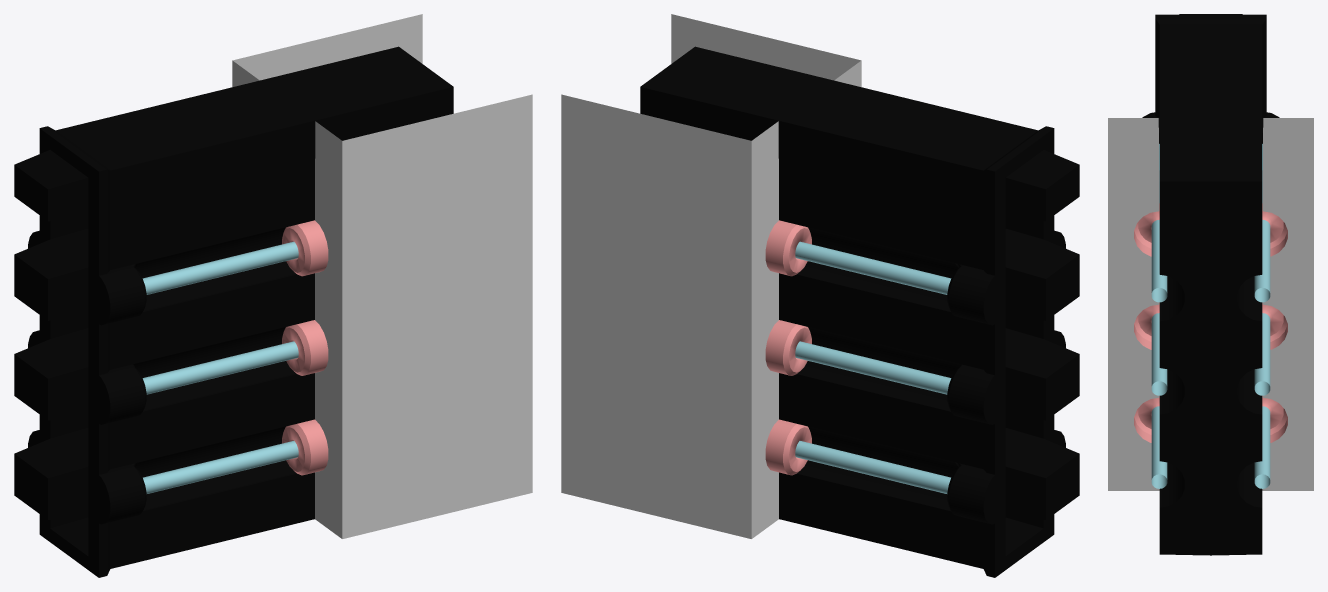
Rendered from Flap.FBX.
The picture shows the model from 3 angles, left to right: view 1: azimuth 30°, elevation 25°; view 2: azimuth 150°, elevation 25°; view 3: azimuth 270°, elevation 25°; orthographic projection. The views are drawn at different scales.
Parts seen in each view (by area): view 1: Box009, Box010; view 2: Box009, Box010; view 3: Box009, Box010.
Boxes of the visible parts, <box> form: Box009: <box>14,46,453,577</box>; Box010: <box>232,14,532,538</box>; Box009: <box>640,46,1079,577</box>; Box010: <box>561,14,861,538</box>; Box009: <box>1142,14,1279,555</box>; Box010: <box>1108,118,1313,490</box>.
Size of the model in its own units: 462 by 402 by 197.
